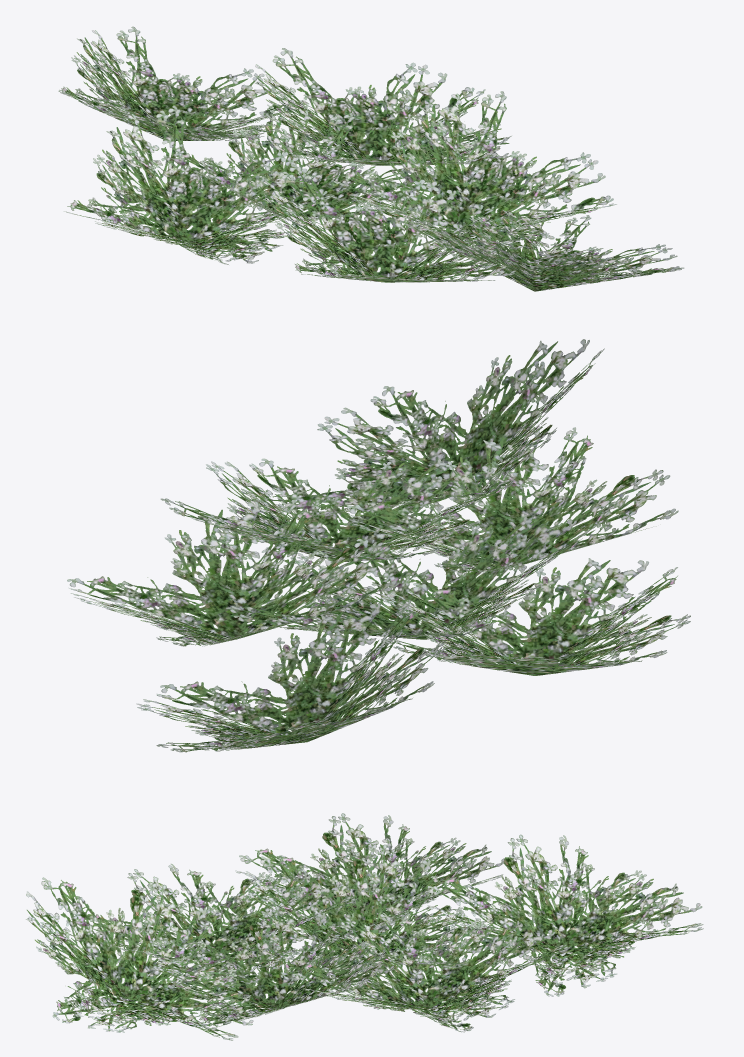
Rendered from ptch_groundflowers_sm_l0.fbx.
3 renders of one model, top to bottom at view 1: azimuth 30°, elevation 25°; view 2: azimuth 150°, elevation 25°; view 3: azimuth 270°, elevation 25°, orthographic. The views are drawn at different scales.
Parts seen in each view (by area): view 1: mesh_node; view 2: mesh_node; view 3: mesh_node.
Boxes of the visible parts, x1,y1,x2,y2 form: mesh_node: (58,26,684,291); mesh_node: (67,339,690,752); mesh_node: (25,813,703,1040).
Size of the model in its own units: 1.19 by 0.2468 by 1.57.
Materials: 1 (1 with a texture image).
